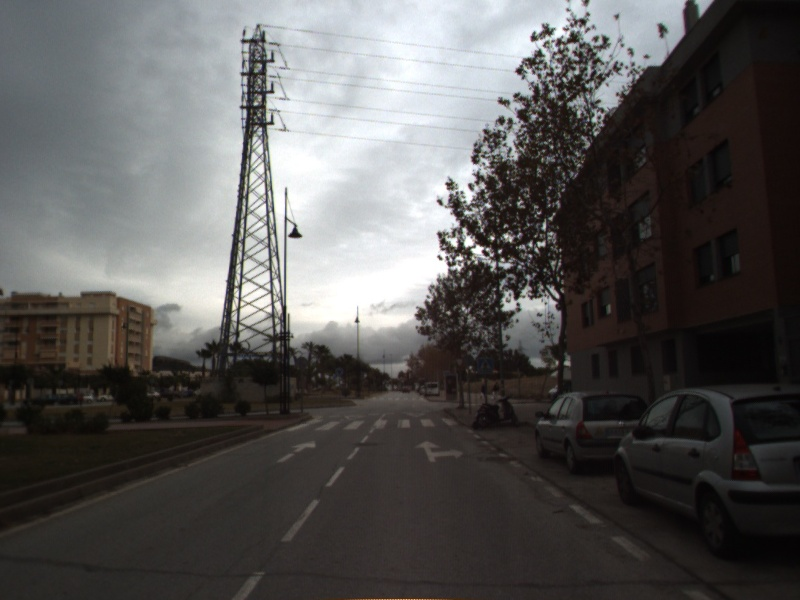STRAIGHT: (274, 438, 317, 465)
STRAIGHT_RIGHT: (412, 438, 465, 464)
